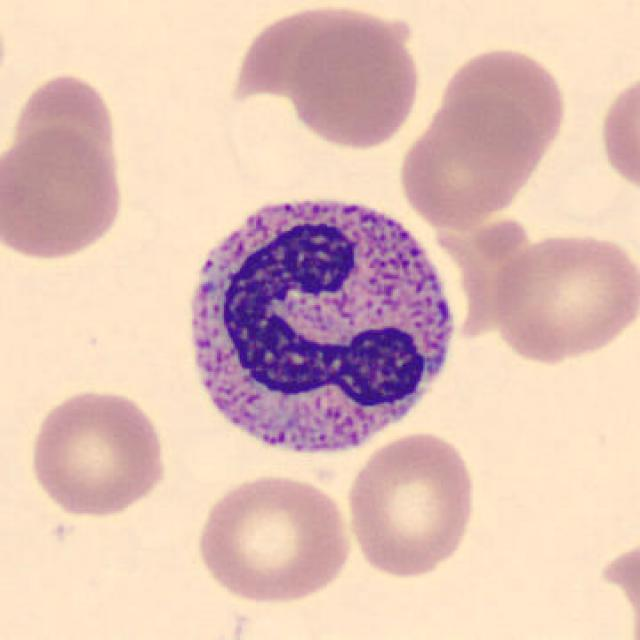Neutrophil: (171, 178, 469, 476)
RBC: (231, 8, 424, 151), (190, 469, 356, 606), (341, 428, 480, 582), (486, 227, 638, 365), (395, 90, 542, 229), (25, 384, 171, 520), (0, 125, 128, 265), (434, 41, 570, 171), (5, 69, 128, 190), (596, 67, 638, 199)
